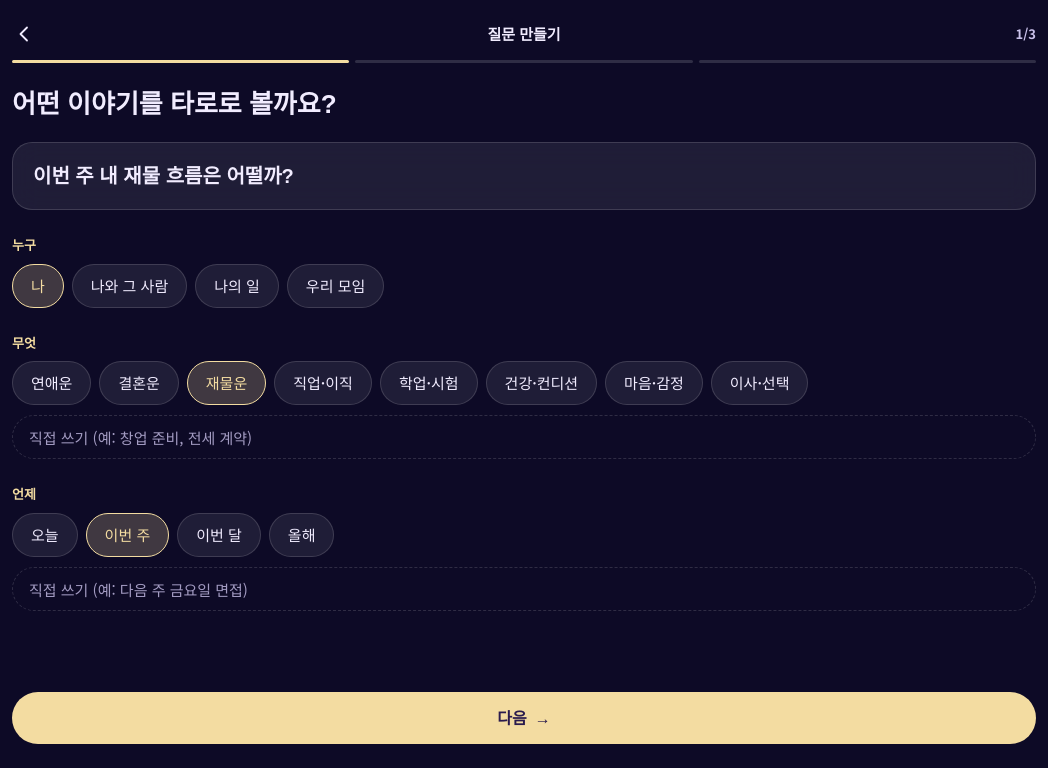
Test: QuestionBuilder › takes a 무엇 or 언제 chip back on a second tap; 다음 waits until both are set again
Expected: the button "다음 →" is enabled, [12, 692, 1036, 744]
Click the button "재물운". click: (226, 383)
box: [187, 361, 266, 405]
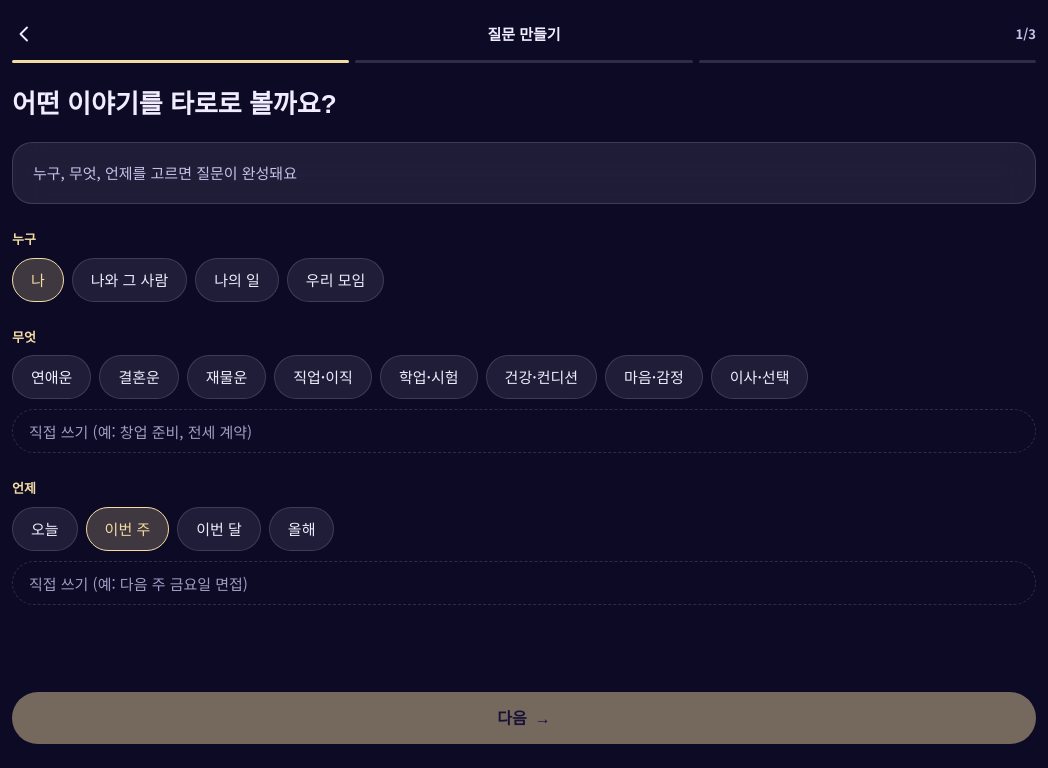
Expected: the text "누구, 무엇, 언제를 고르면 질문이 완성돼요" is shown, [33, 162, 297, 183]
Expected: the button "다음 →" is disabled, [12, 692, 1036, 744]
Click the button "이번 주". click: (127, 529)
box: [86, 507, 169, 551]
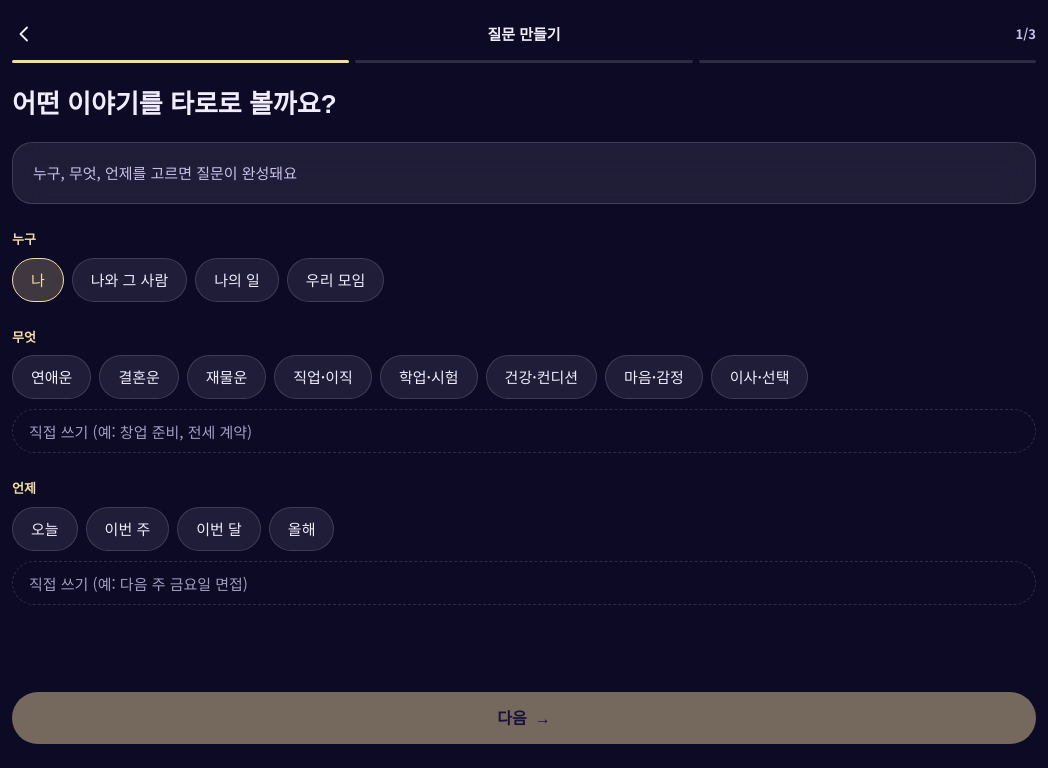
Click the button "재물운". click: (226, 377)
box: [187, 355, 266, 399]
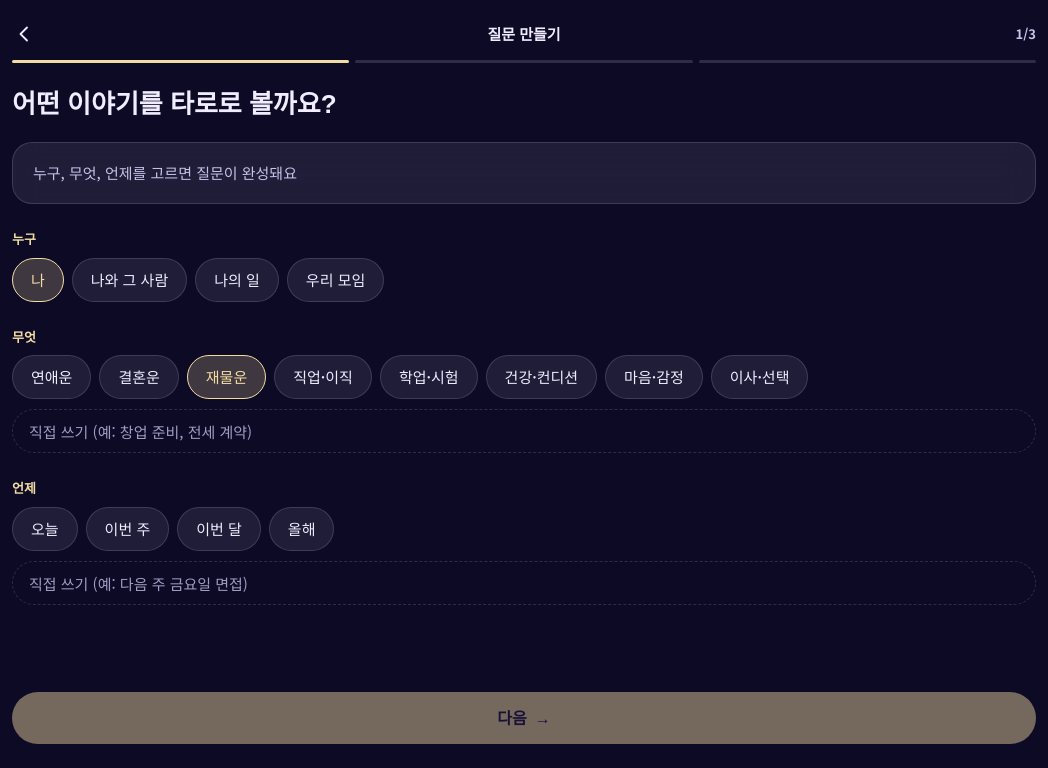
Expected: the button "다음 →" is disabled, [12, 692, 1036, 744]
Click the button "이번 주". click: (127, 529)
box: [86, 507, 169, 551]
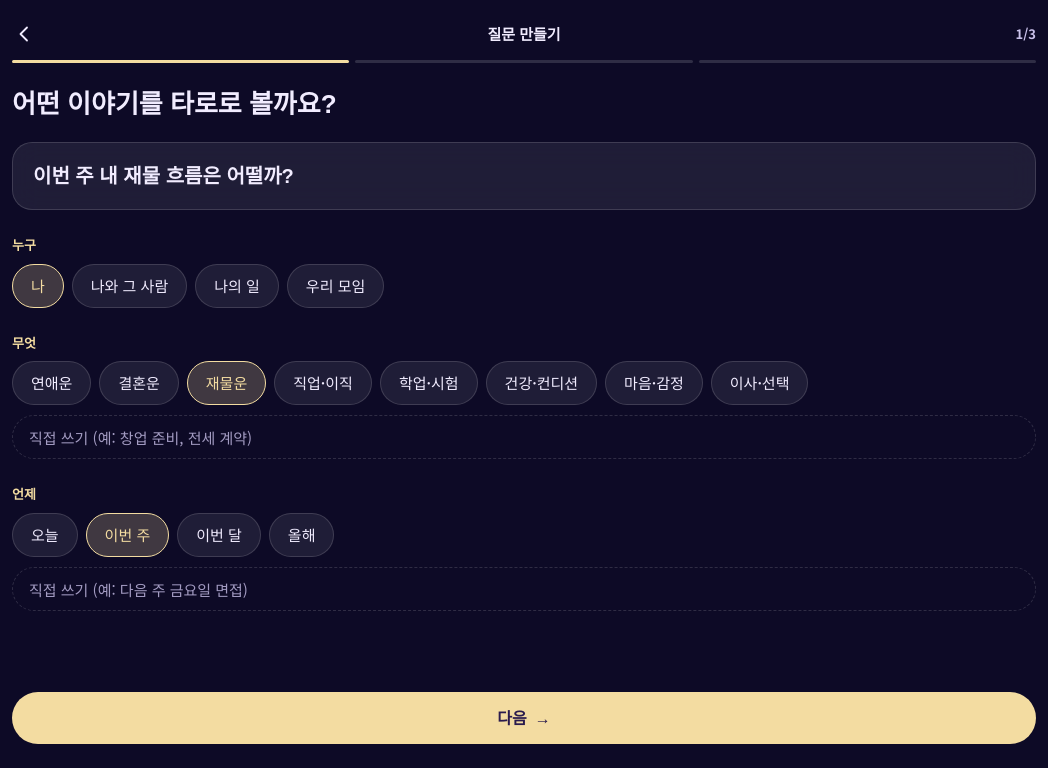
Expected: the button "다음 →" is enabled, [12, 692, 1036, 744]
Expected: the text "이번 주 내 재물 흐름은 어떨까?" is shown, [33, 165, 294, 187]
